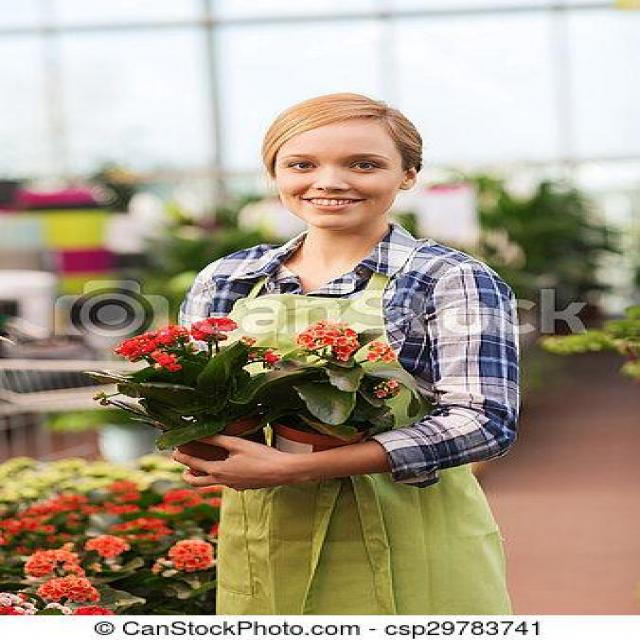organic waste: (187, 315, 245, 346), (288, 321, 360, 345), (114, 329, 152, 360), (364, 342, 398, 368), (150, 350, 183, 375), (326, 337, 358, 351), (382, 383, 402, 395)
